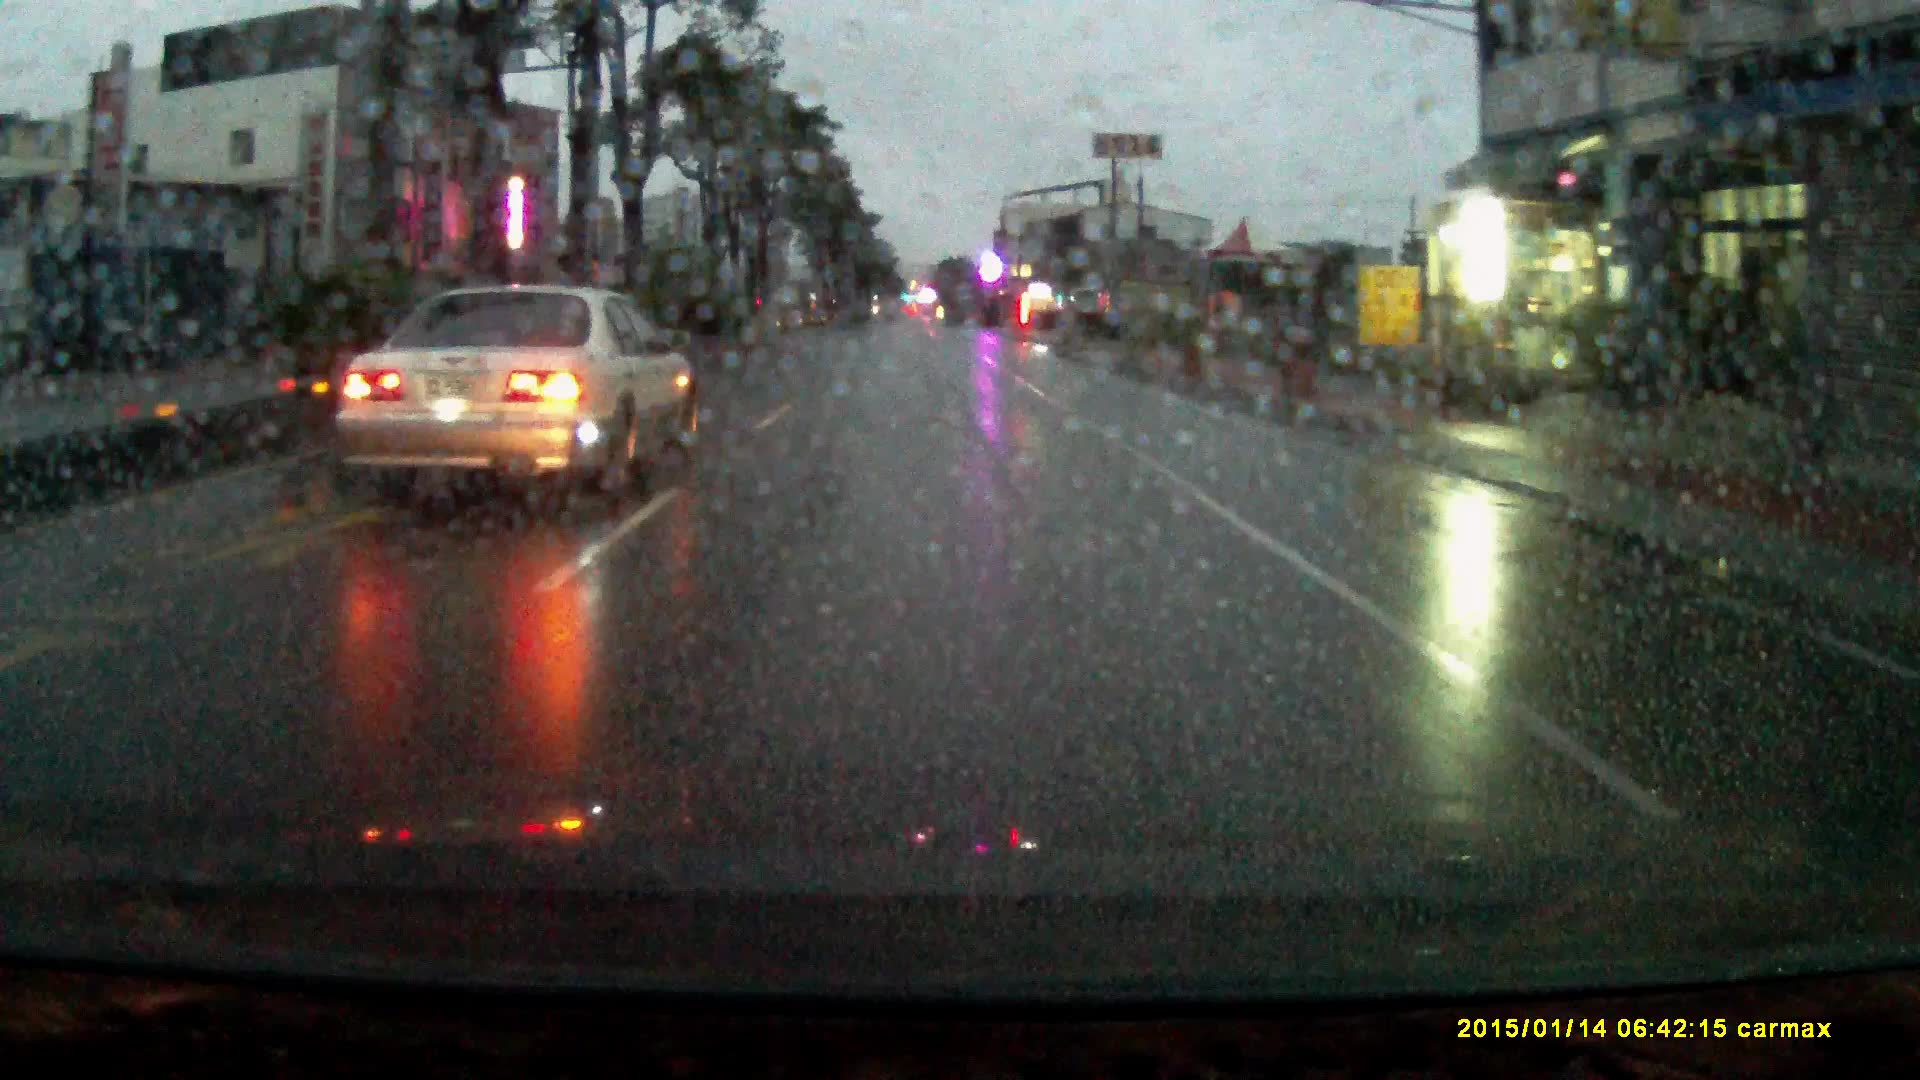vehicle: (326, 289, 699, 512)
